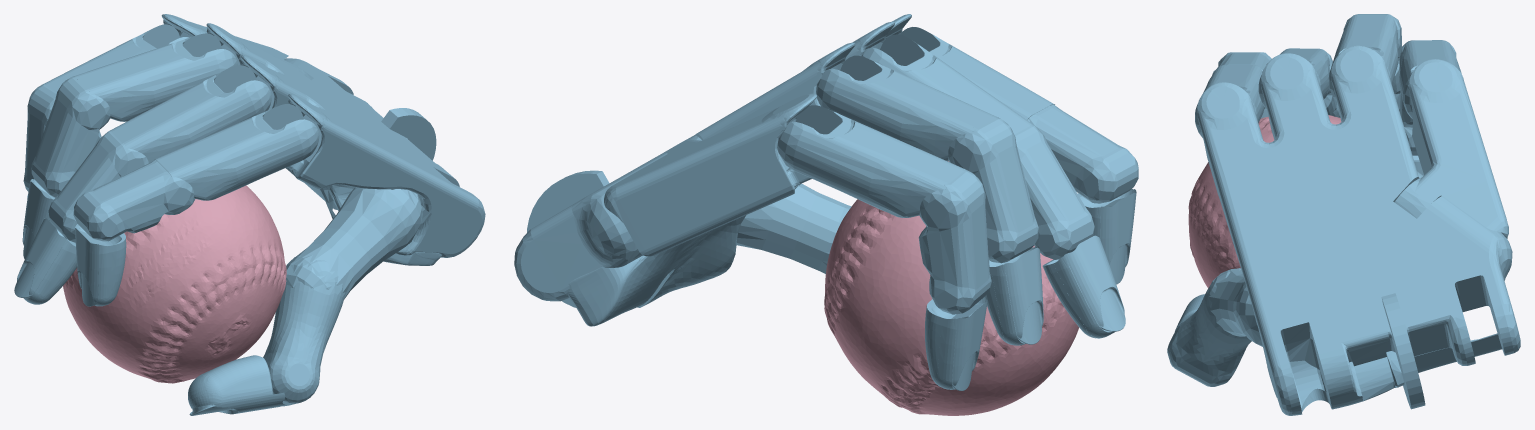
3 renders of one model, left to right at view 1: azimuth 30°, elevation 25°; view 2: azimuth 150°, elevation 25°; view 3: azimuth 270°, elevation 25°, orthographic. The views are drawn at different scales.
Parts seen in each view (by area): view 1: world; view 2: world; view 3: world.
Part boxes in pixels (x1,y1,x2,y2): world: (14, 14, 485, 415); world: (514, 14, 1138, 415); world: (1167, 14, 1520, 415).
Size of the model in its own units: 0.1737 by 0.1179 by 0.1119.
